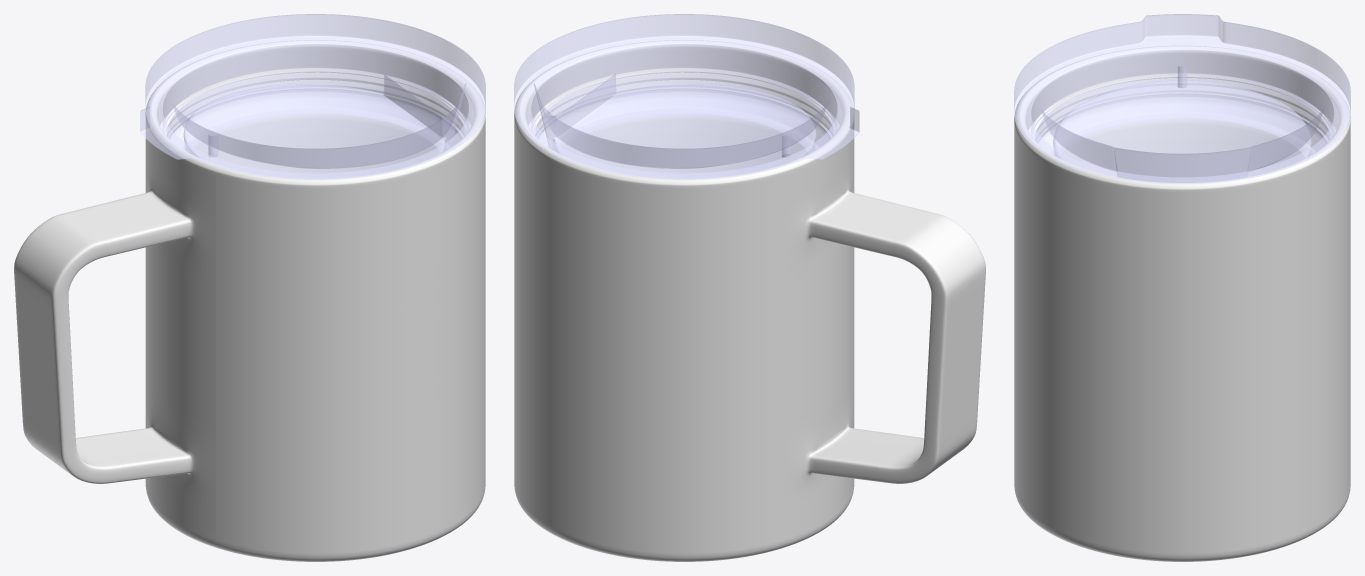
Rendered from model_insulatedcoffee.glb.
3 renders of one model, left to right at view 1: azimuth 30°, elevation 25°; view 2: azimuth 150°, elevation 25°; view 3: azimuth 270°, elevation 25°, orthographic.
Visible parts, largest first — view 1: PrintArea, Mug, Cap, Steel, Rubber; view 2: PrintArea, Mug, Cap, Steel, Rubber; view 3: PrintArea, Cap, Steel, Mug, Rubber.
Boxes of the visible parts, left/top/right/bottom form: PrintArea: left=145, top=122, right=485, bottom=547; Mug: left=14, top=40, right=485, bottom=561; Cap: left=140, top=14, right=485, bottom=179; Steel: left=151, top=40, right=479, bottom=179; Rubber: left=160, top=70, right=471, bottom=137; PrintArea: left=514, top=122, right=854, bottom=547; Mug: left=514, top=40, right=985, bottom=561; Cap: left=514, top=14, right=859, bottom=179; Steel: left=520, top=40, right=848, bottom=179; Rubber: left=528, top=70, right=839, bottom=137; PrintArea: left=1014, top=127, right=1350, bottom=547; Cap: left=1014, top=14, right=1350, bottom=183; Steel: left=1020, top=46, right=1344, bottom=183; Mug: left=1014, top=45, right=1350, bottom=561; Rubber: left=1028, top=75, right=1336, bottom=141.
Bounding box in the file's own units: 0.3231 × 0.2942 × 0.2217.
